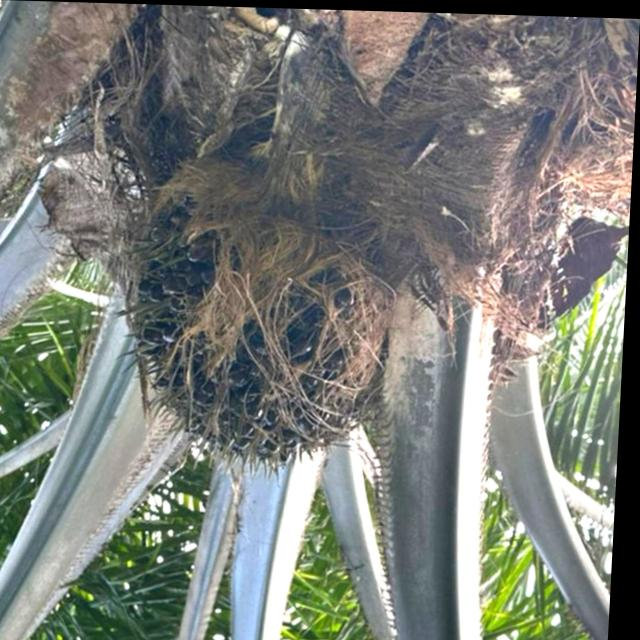almost: (102, 192, 408, 496)
